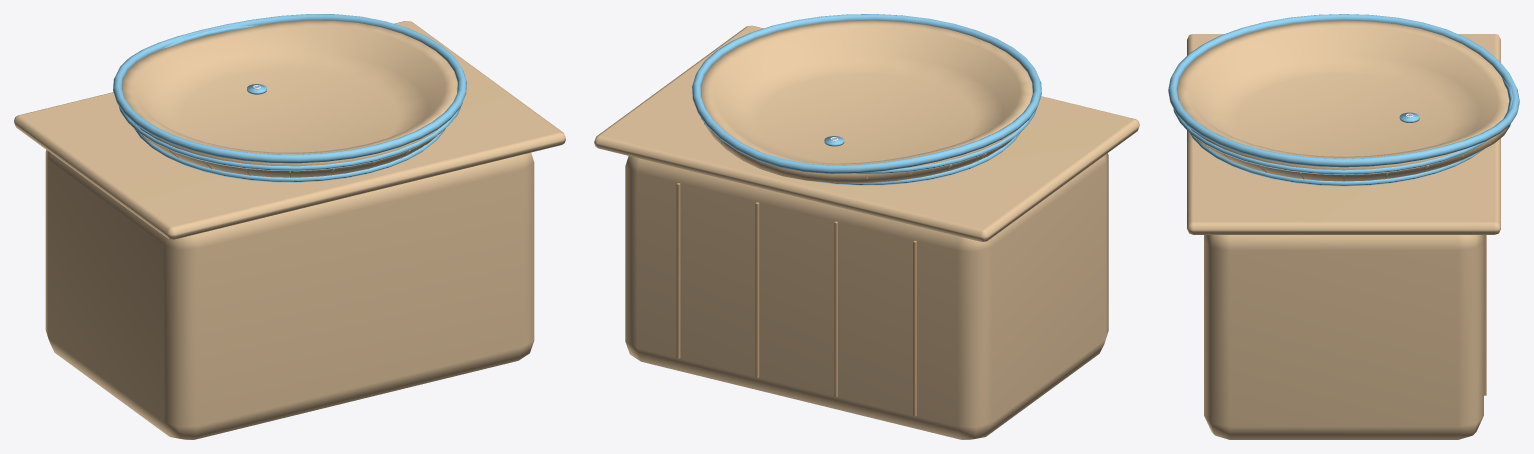
File: tub_wood.glb
3 views of the same model, side by side, from view 1: azimuth 30°, elevation 25°; view 2: azimuth 150°, elevation 25°; view 3: azimuth 270°, elevation 25° (orthographic).
Visible parts, largest first — view 1: Stand, Tub; view 2: Stand, Tub; view 3: Stand, Tub.
Part boxes in pixels (box(x1,y1,x2,y2)): Stand: box(14, 21, 565, 439); Tub: box(113, 14, 466, 182); Stand: box(594, 25, 1139, 439); Tub: box(692, 14, 1041, 185); Stand: box(1187, 34, 1500, 439); Tub: box(1168, 14, 1519, 186).
Bounding box in the file's own units: 1.6 × 1.06 × 1.23.
4 materials, 4 textured.
